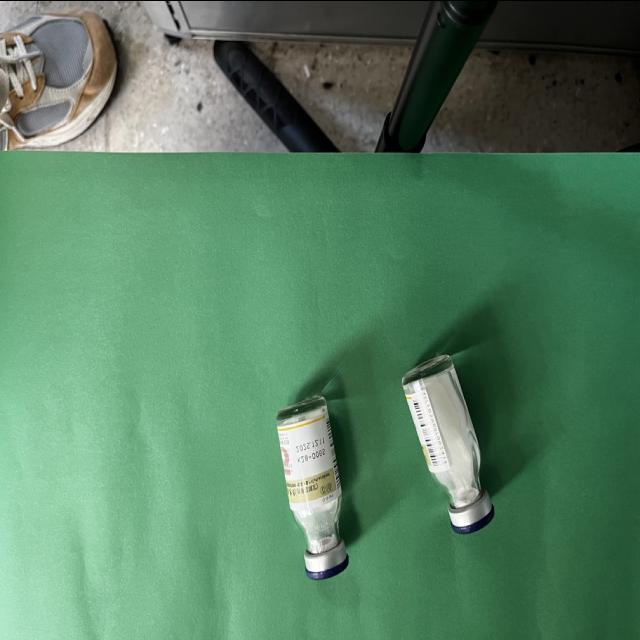Vials: (402, 353, 494, 533), (276, 395, 348, 579)
